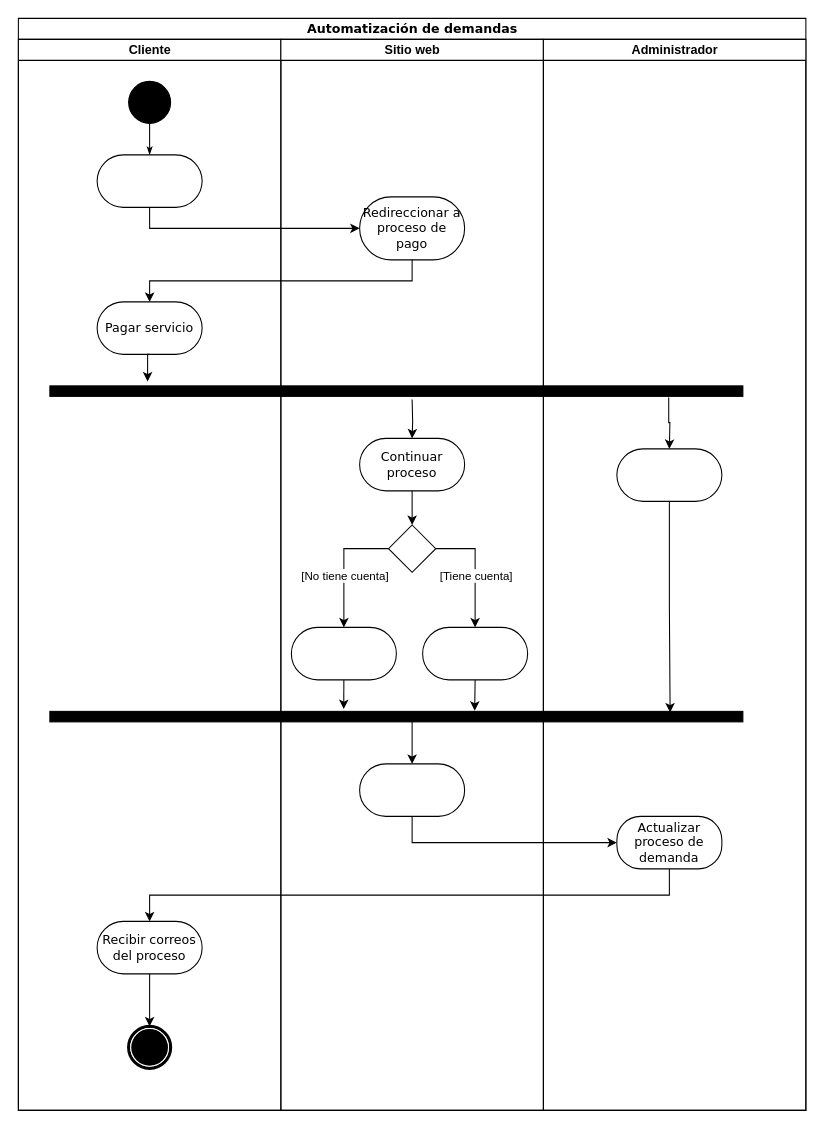
Some shapes in this 824 by 1129 pixel diagram are drawn without their labels. Each missing label, with the centre of its shape:
Crear documento legal: (x=412, y=789)
Iniciar sesión: (x=475, y=653)
Llenar formulario: (x=149, y=180)
Recibir notificación: (x=669, y=474)
Registrar cuenta: (x=343, y=653)
